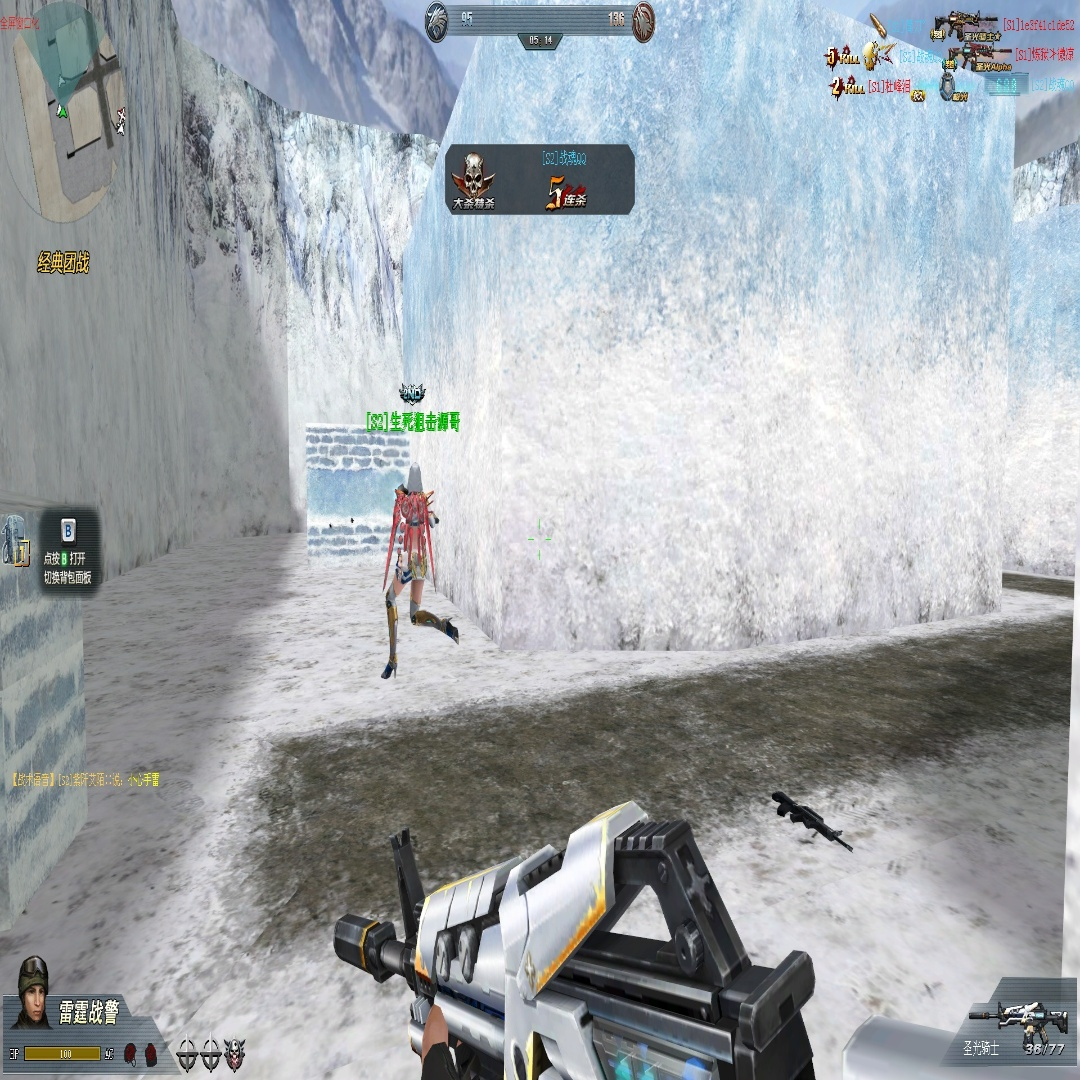ct: (384, 462, 432, 692)
